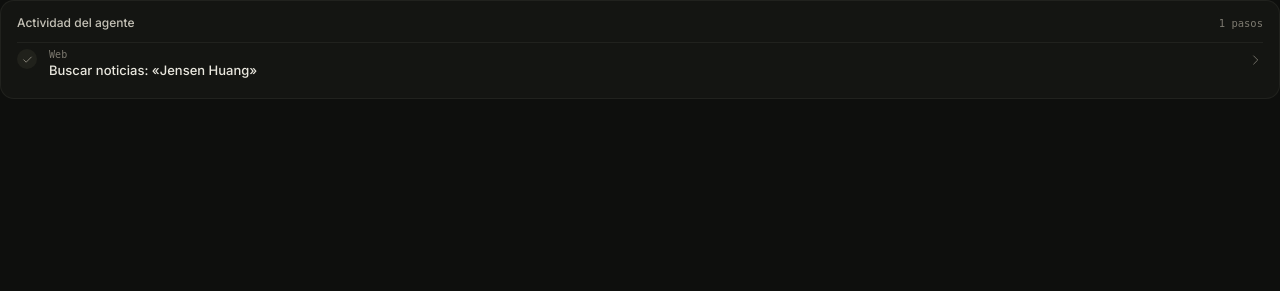
AgentTrace › al expandir muestra lo que encontró con su resumen
What coordinates should you click on to do the following:
click the button with aria-label "Ver detalle de Buscar noticias: «Jensen Huang»"
I would click on:
 (153, 70)
Its box is [49,49,1263,92].
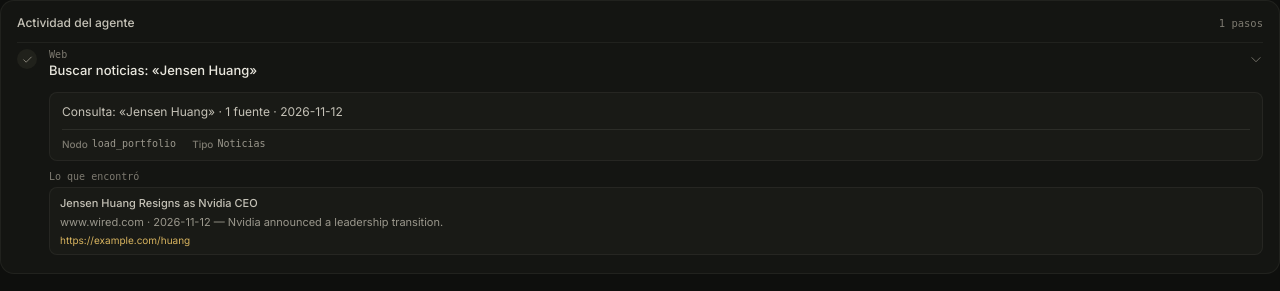
Now the text "Lo que encontró" is shown, box [49,171,139,182]
Now the text "Jensen Huang Resigns as Nvidia CEO" is shown, box [60,196,258,210]
Now the text "www.wired.com · 2026-11-12 — Nvidia announced a leadership transition." is shown, box [60,214,443,228]
